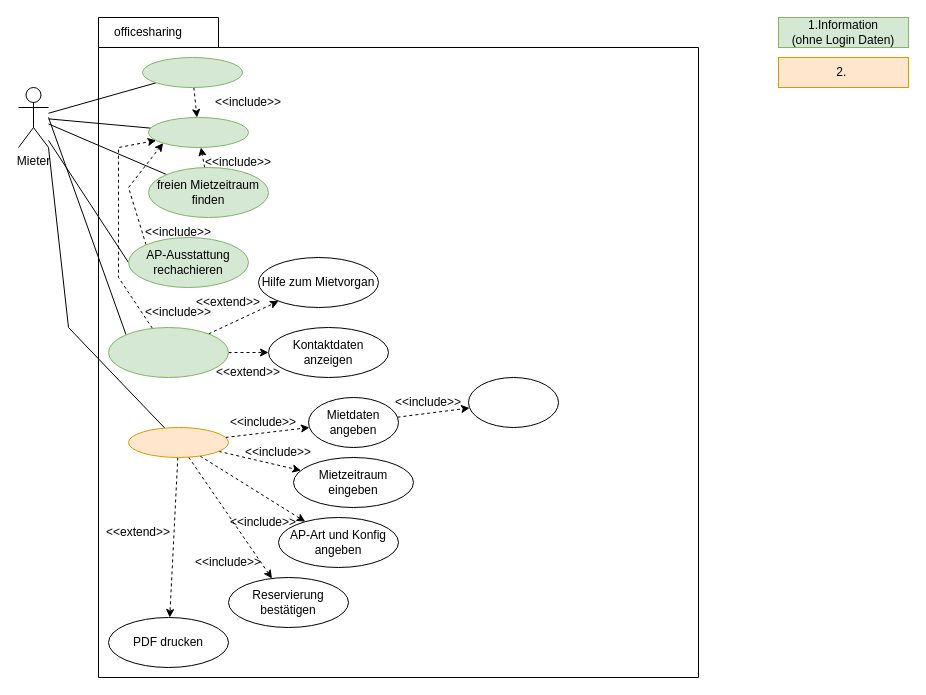
Image size: 926x695. Some labels were removed from this diagram. Each missing label, with the box of its shape:
AP buchen: (128, 426, 228, 458)
Email verifizieren: (468, 376, 558, 428)
schließen: (142, 56, 242, 88)
Support aufrufen: (108, 326, 228, 378)
öffnen: (148, 116, 248, 148)
